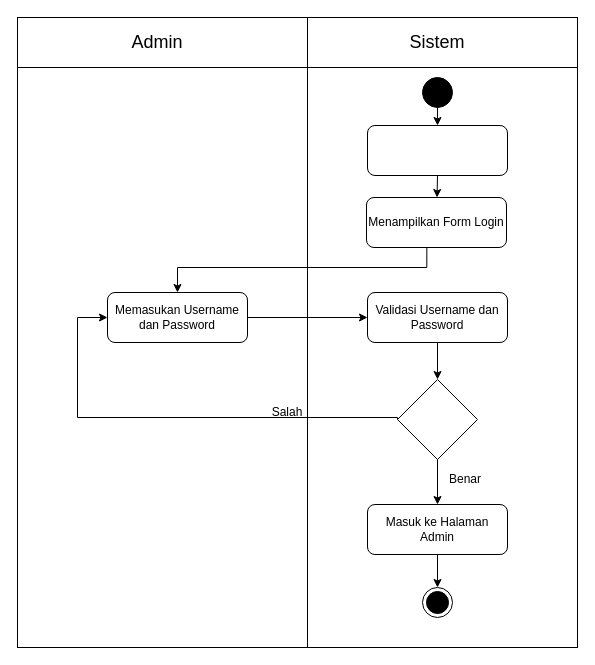
Image size: 595x665. Some labels were removed from this diagram. Here are the shapes that lost their labels. From the top down, the centre of each, then its label:
At (x=437, y=150): "Menampilkan Halaman Login".
At (x=437, y=419): "Validasi".
